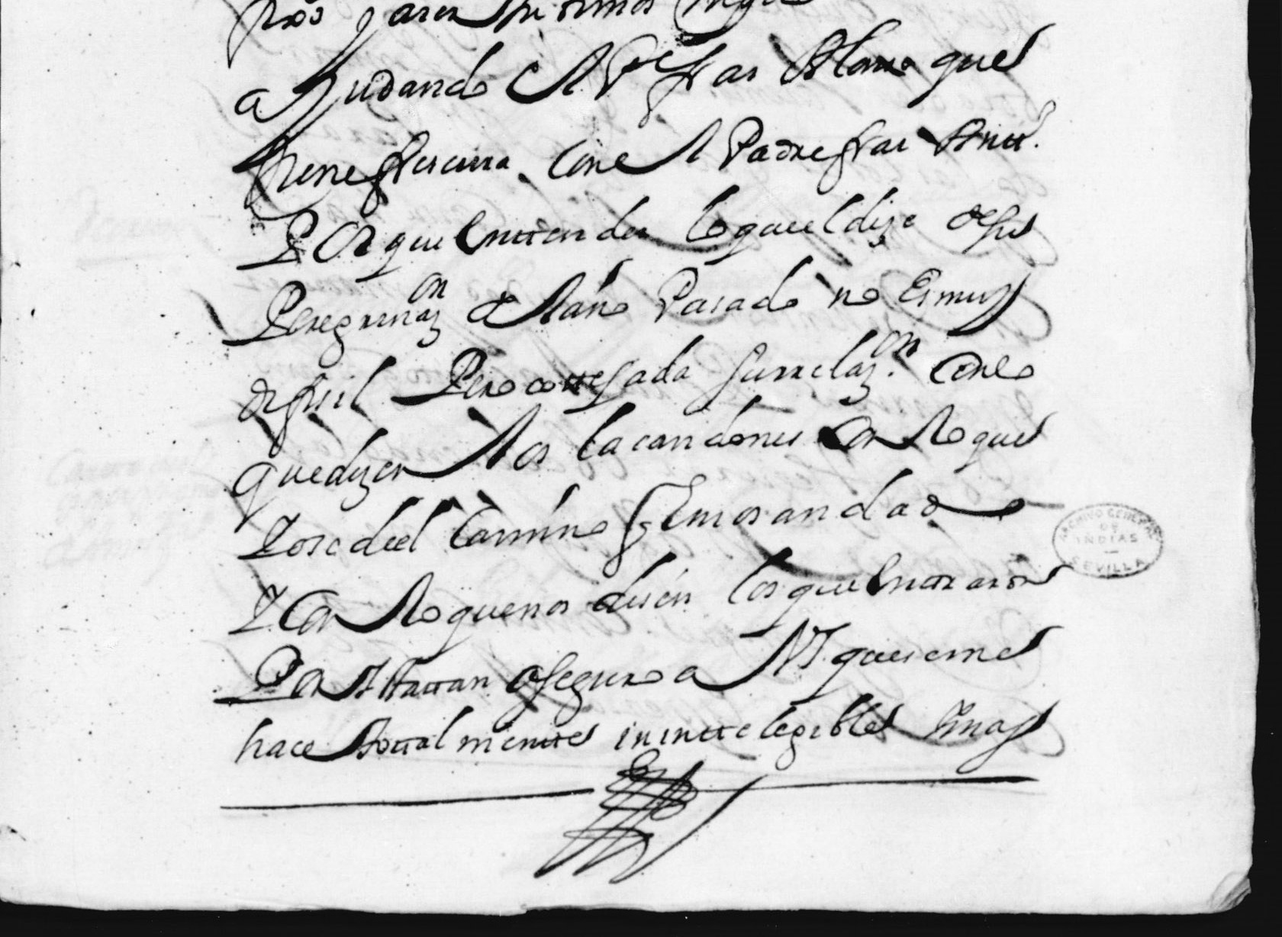lacandon: (577, 394, 803, 460)
